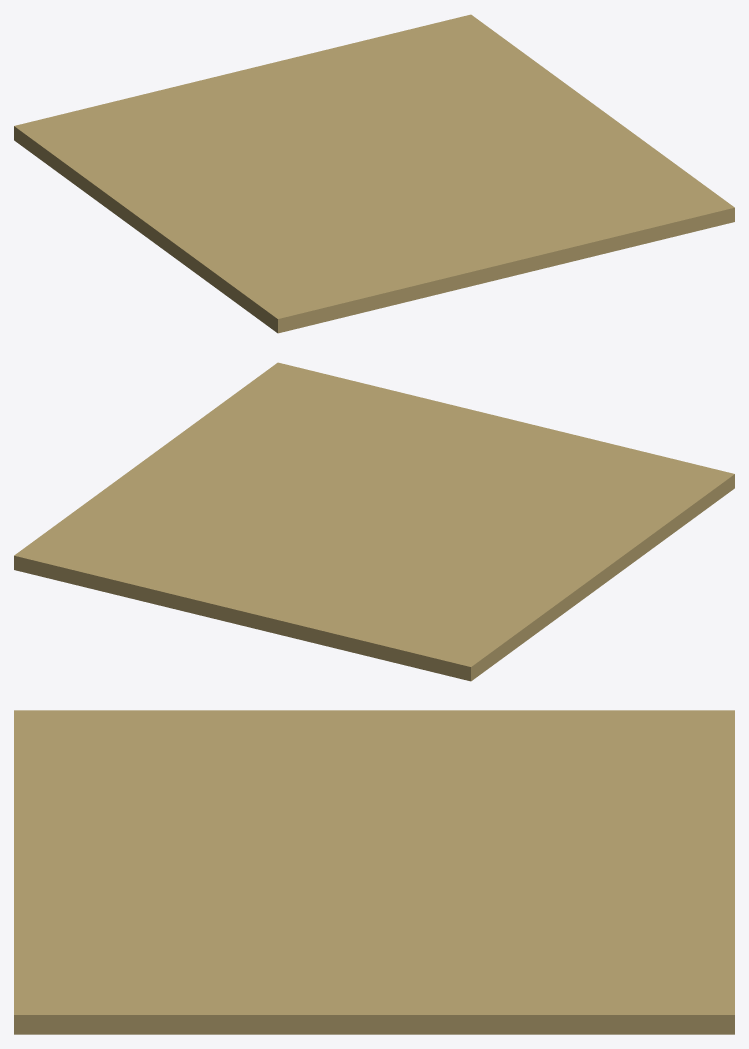
Rendered from Grass_Soil_Tile_01.fbx.
The picture shows the model from 3 angles, top to bottom: view 1: azimuth 30°, elevation 25°; view 2: azimuth 150°, elevation 25°; view 3: azimuth 270°, elevation 25°; orthographic projection. The views are drawn at different scales.
Visible parts, largest first — view 1: Base.003; view 2: Base.003; view 3: Base.003.
Boxes of the visible parts, x1,y1,x2,y2 form: Base.003: [14, 14, 734, 333]; Base.003: [14, 362, 734, 681]; Base.003: [14, 710, 734, 1034].
Bounding box in the file's own units: 1 × 1 × 0.03.
